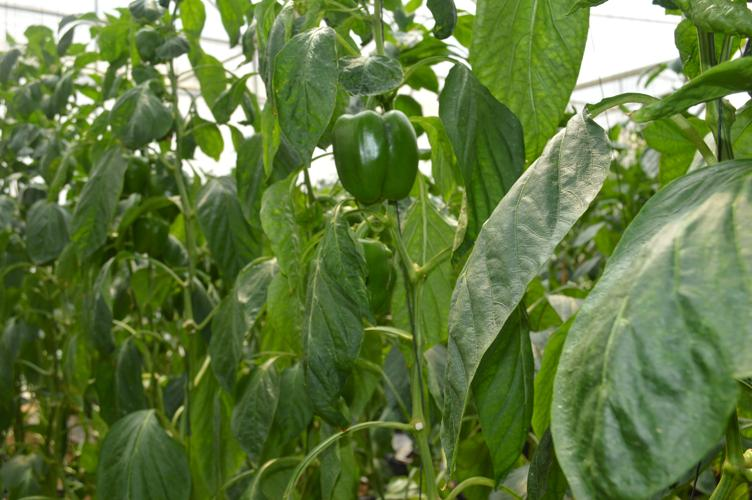BellPepper: (330, 115, 418, 204)
